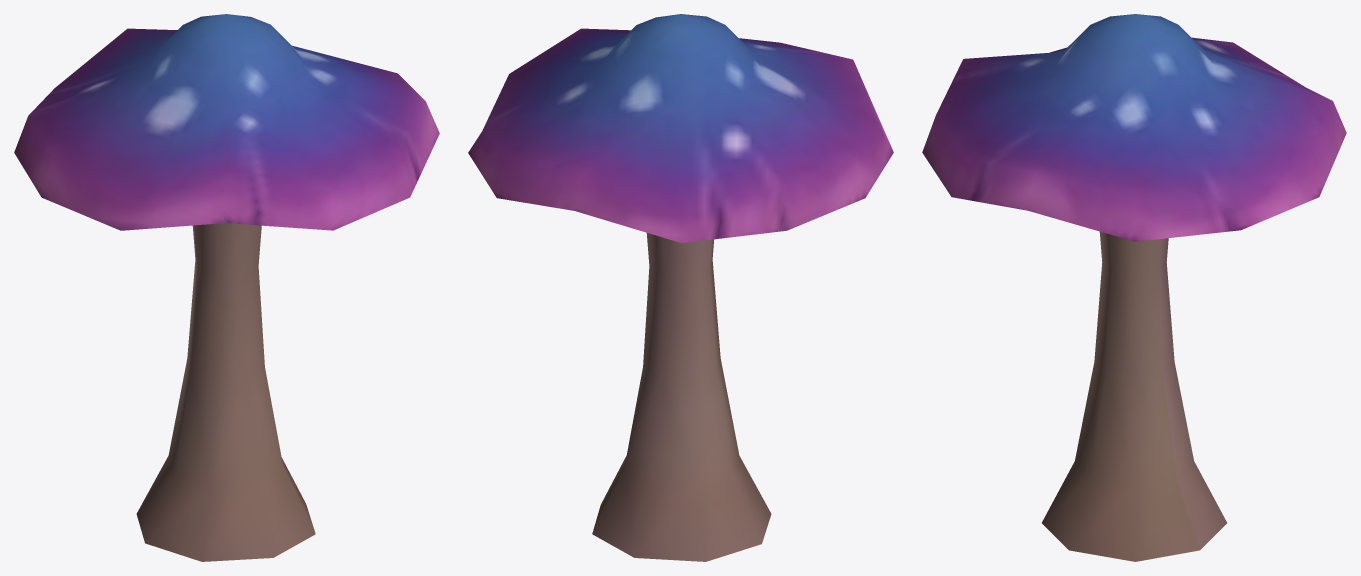
File: Yegesl_mg05.FBX
3 renders of one model, left to right at view 1: azimuth 30°, elevation 25°; view 2: azimuth 150°, elevation 25°; view 3: azimuth 270°, elevation 25°, orthographic.
Parts seen in each view (by area): view 1: Yegesl_mg05; view 2: Yegesl_mg05; view 3: Yegesl_mg05.
Part boxes in pixels (x1,y1,x2,y2): Yegesl_mg05: (14,14,439,561); Yegesl_mg05: (468,14,893,561); Yegesl_mg05: (922,14,1346,561).
Bounding box in the file's own units: 44.69 × 44.69 × 59.1.
